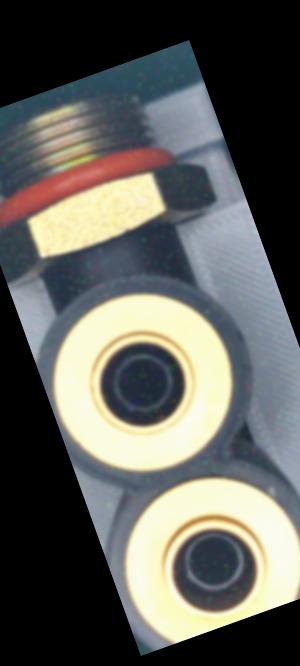joint line: (103, 254, 118, 277)
white mark: (93, 242, 105, 256)
